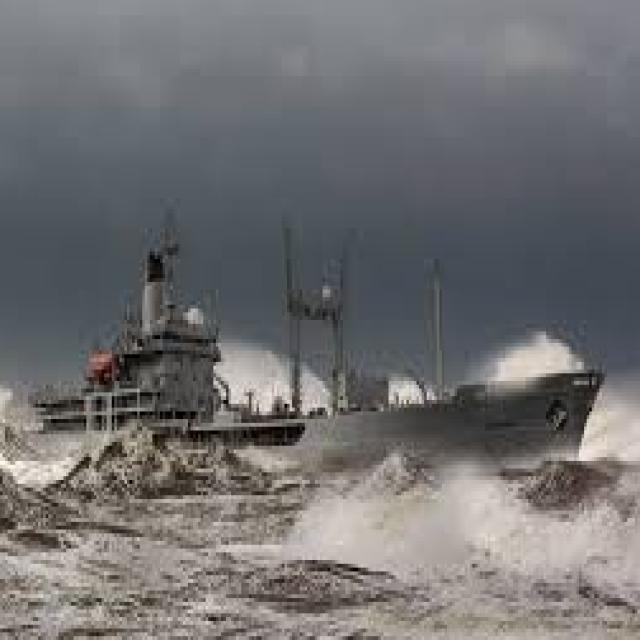navalvessels: (0, 206, 635, 507)
